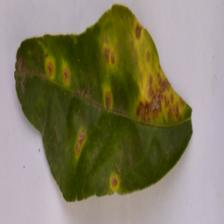canker: (42, 16, 187, 130)
